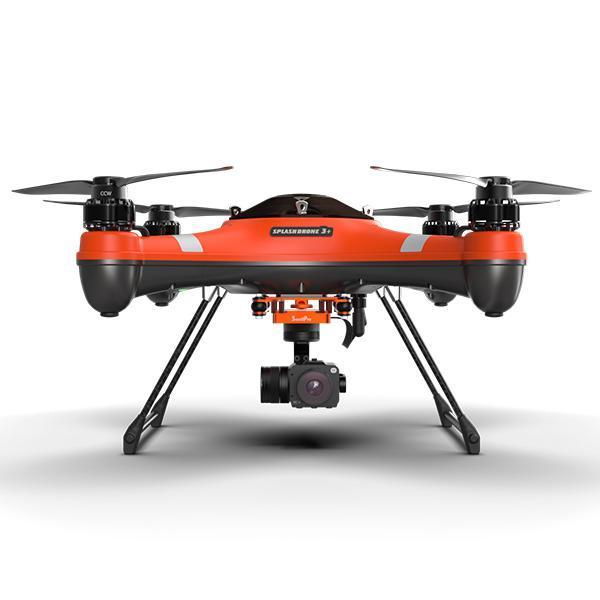drone: (12, 158, 592, 348)
